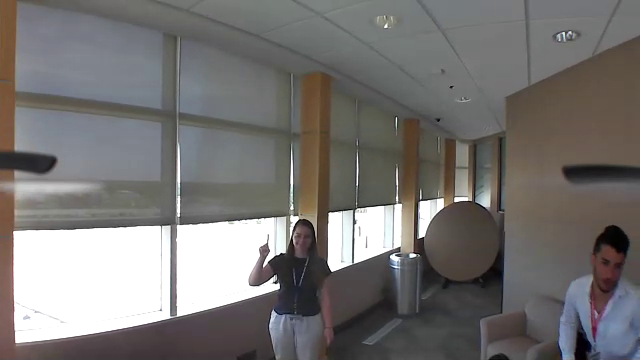up: (258, 231, 273, 257)
